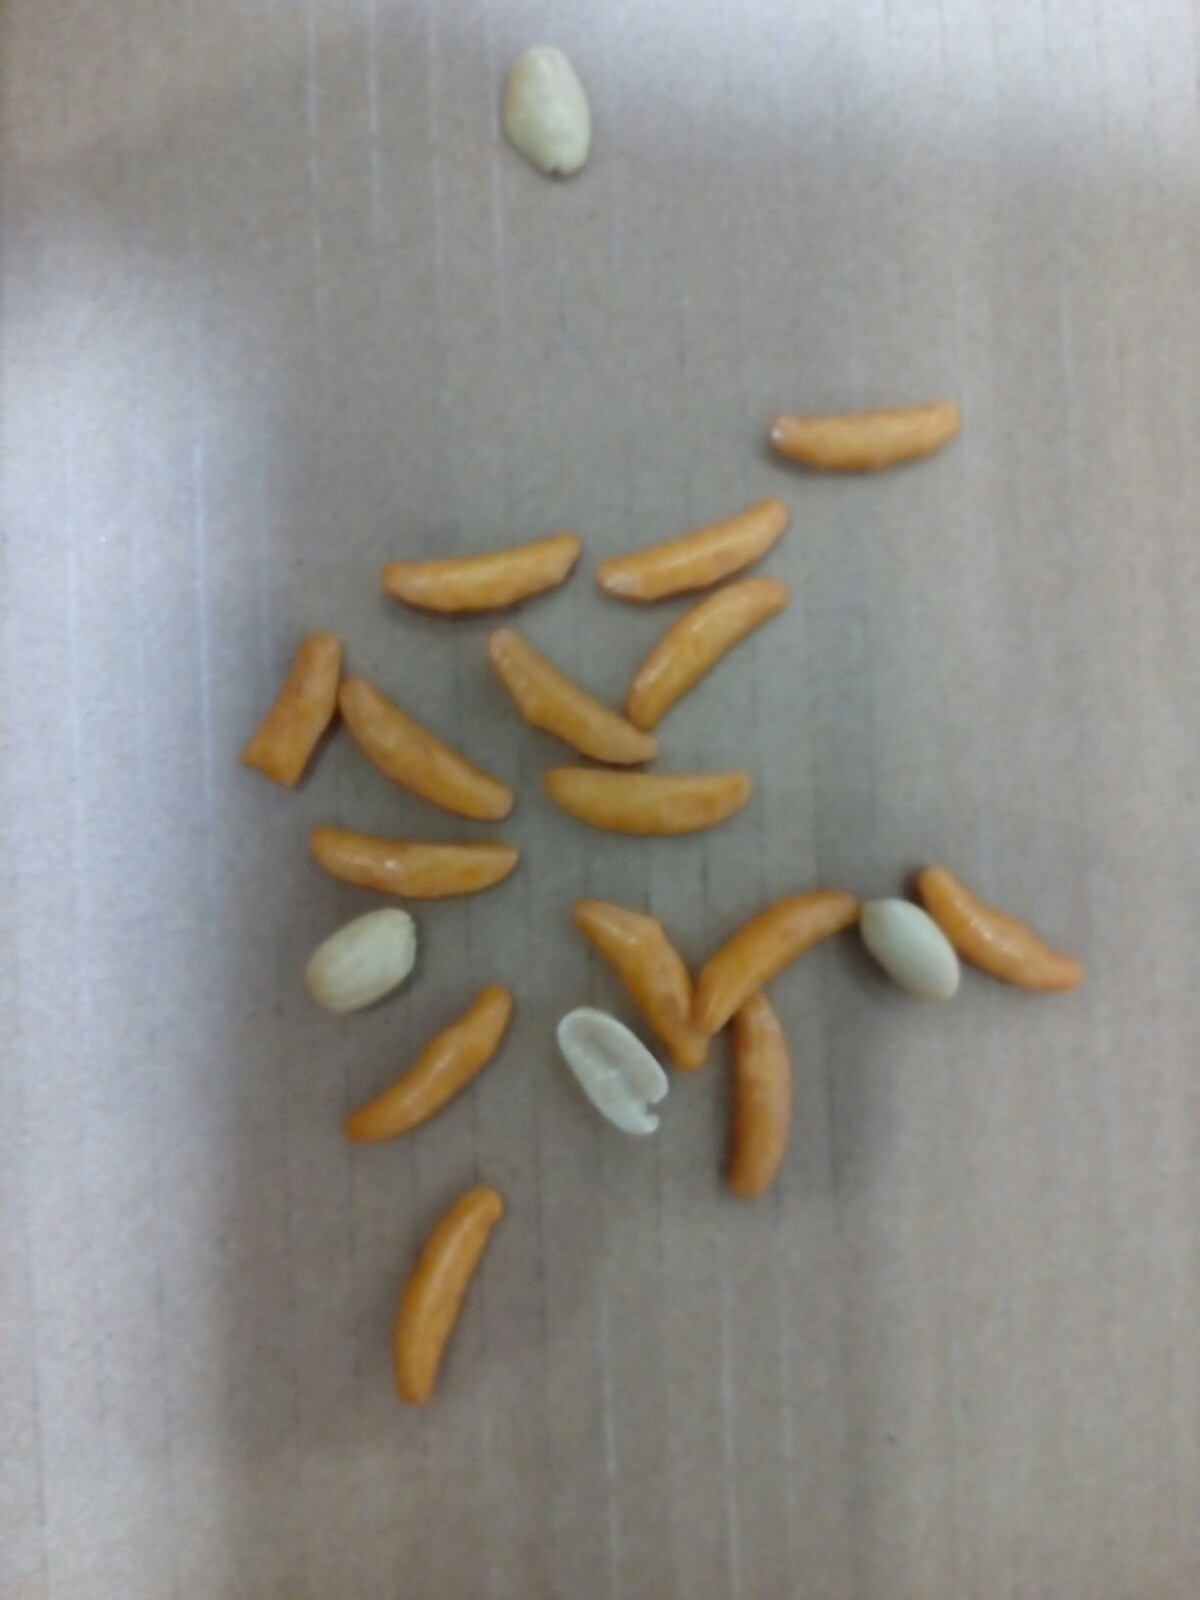peanut: (488, 31, 611, 193), (550, 999, 677, 1138), (299, 900, 435, 1019), (852, 884, 977, 1010)
